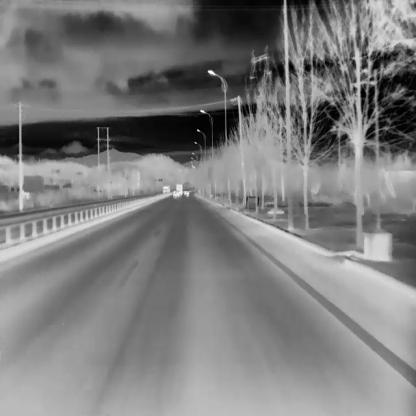car: (172, 188, 180, 198), (184, 189, 188, 195)
truck: (162, 184, 170, 194), (176, 183, 182, 196)
